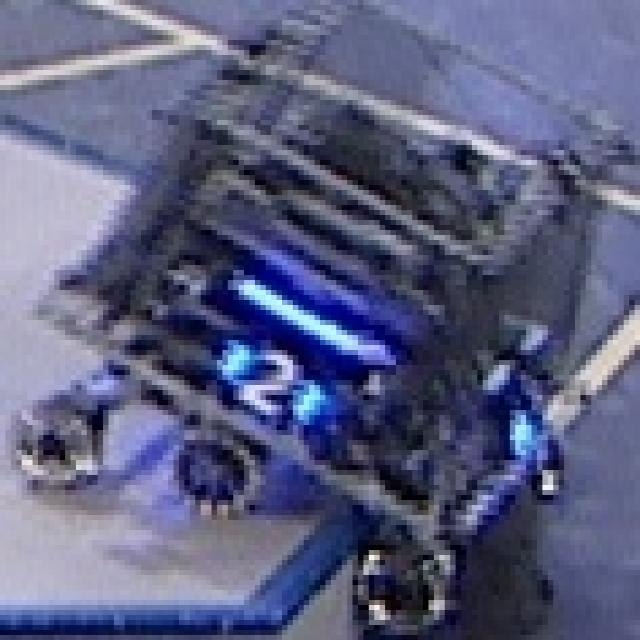B2: (217, 335, 320, 420)
